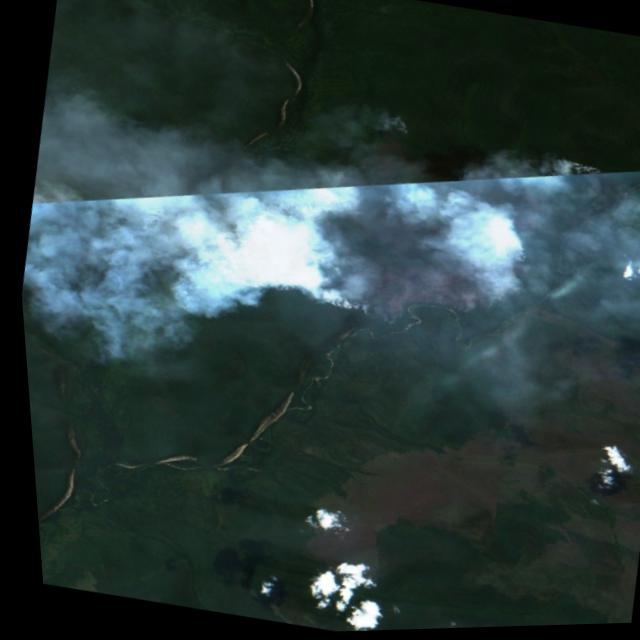fire: (199, 89, 640, 374)
